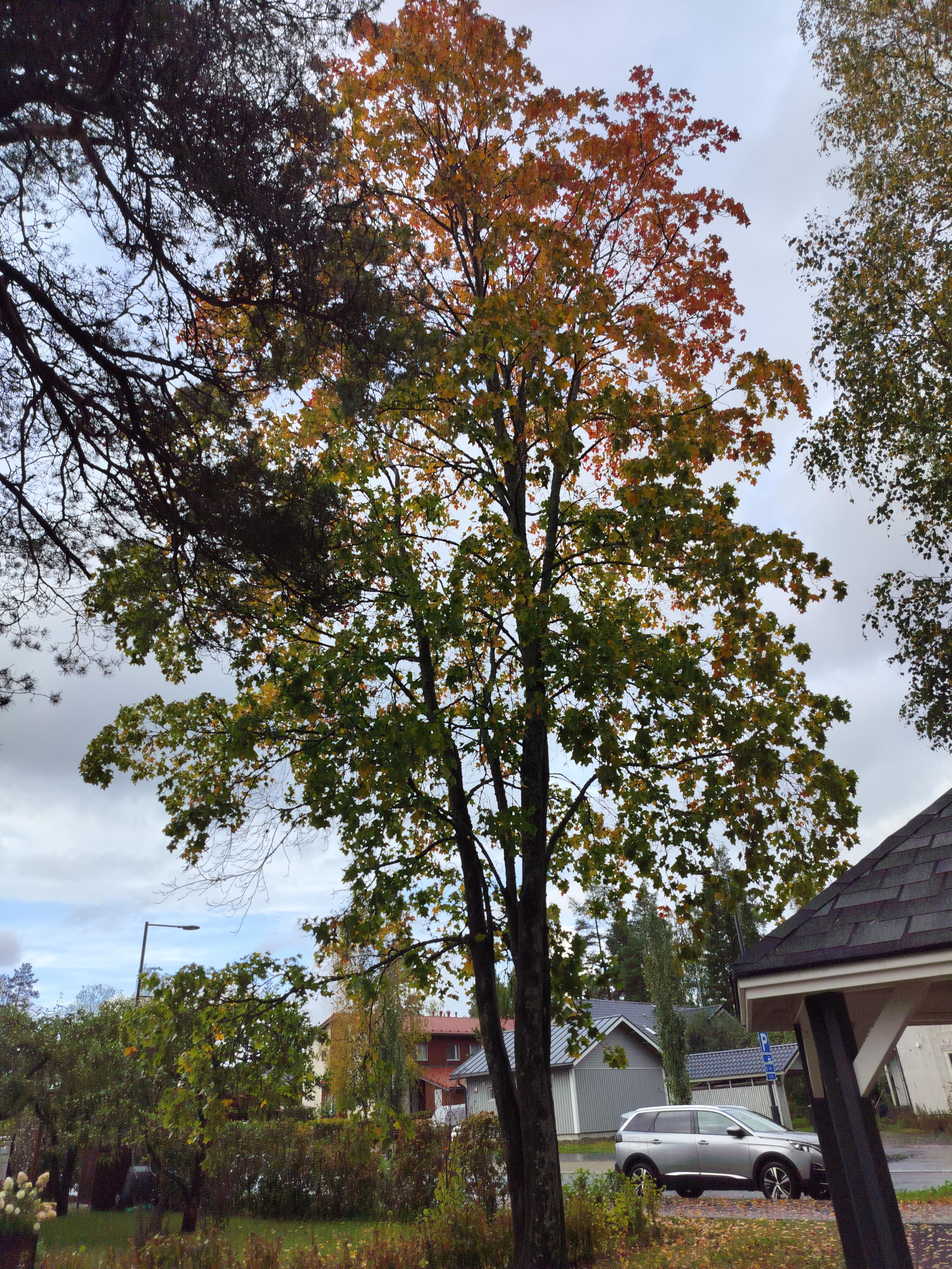Maple: (361, 0, 866, 892), (324, 0, 635, 1254)
